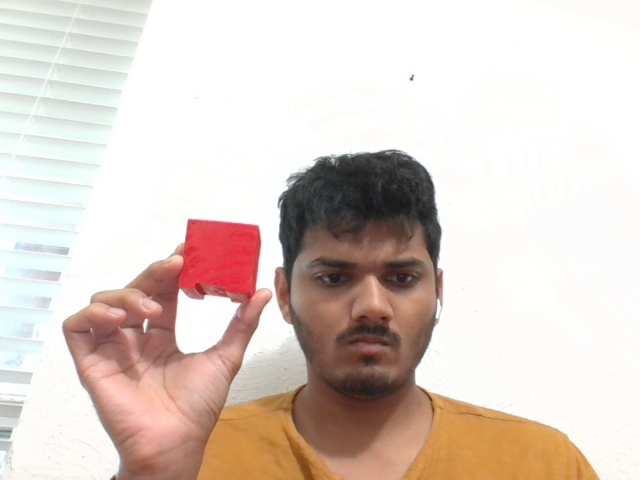RedBlock: (175, 217, 261, 299)
